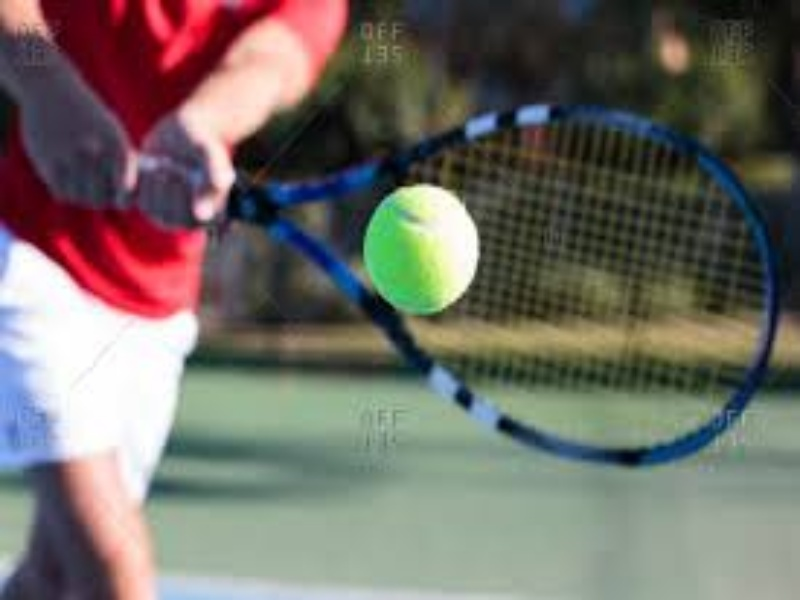tennis ball: (343, 174, 503, 312)
